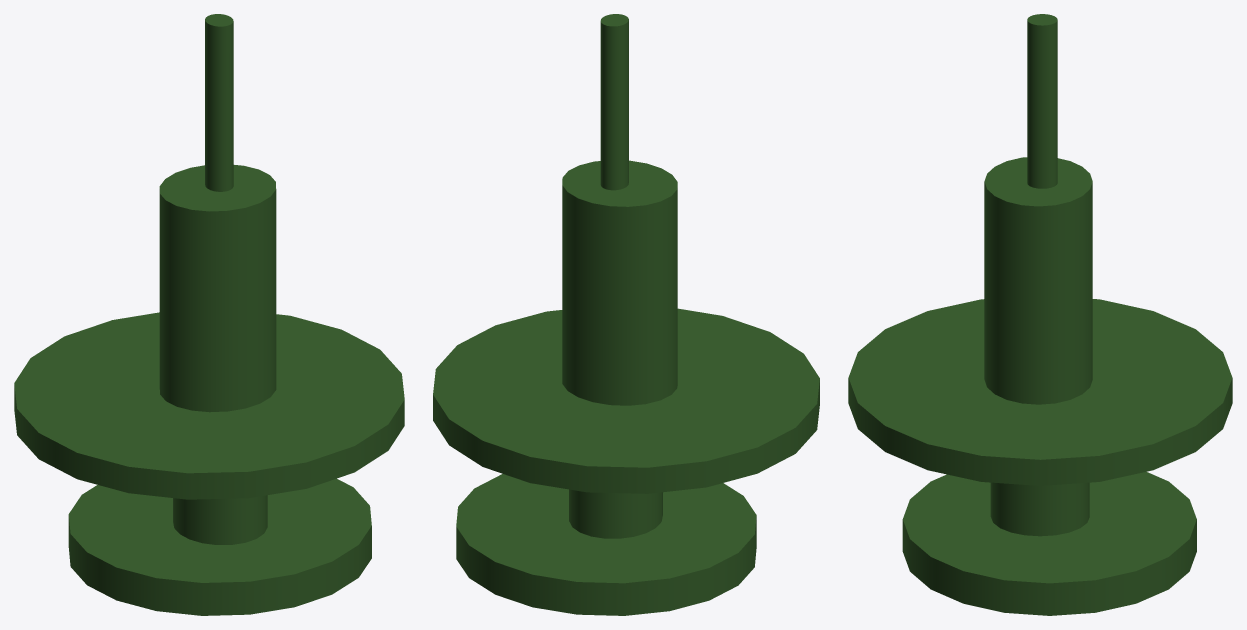
The model's file is injector.fbx.
3 renders of one model, left to right at view 1: azimuth 30°, elevation 25°; view 2: azimuth 150°, elevation 25°; view 3: azimuth 270°, elevation 25°, orthographic.
Parts seen in each view (by area): view 1: pasted__pCylinder4, pCylinder4, pCylinder3, pCylinder2, pasted__pCylinder3; view 2: pasted__pCylinder4, pCylinder4, pCylinder3, pCylinder2, pasted__pCylinder3; view 3: pasted__pCylinder4, pCylinder4, pCylinder3, pCylinder2, pasted__pCylinder3.
Part boxes in pixels (x1=…): pasted__pCylinder4: x1=14, y1=312, x2=404, y2=499; pCylinder4: x1=68, y1=478, x2=371, y2=615; pCylinder3: x1=159, y1=165, x2=276, y2=412; pCylinder2: x1=205, y1=14, x2=233, y2=191; pasted__pCylinder3: x1=173, y1=495, x2=267, y2=544; pasted__pCylinder4: x1=433, y1=308, x2=819, y2=493; pCylinder4: x1=456, y1=474, x2=756, y2=615; pCylinder3: x1=562, y1=160, x2=677, y2=405; pCylinder2: x1=600, y1=14, x2=628, y2=190; pasted__pCylinder3: x1=569, y1=489, x2=662, y2=538; pasted__pCylinder4: x1=848, y1=299, x2=1232, y2=485; pCylinder4: x1=902, y1=471, x2=1196, y2=615; pCylinder3: x1=984, y1=157, x2=1092, y2=404; pCylinder2: x1=1027, y1=14, x2=1057, y2=188; pasted__pCylinder3: x1=990, y1=482, x2=1089, y2=536.
Size of the model in its own units: 1.98 by 2.97 by 1.95.
